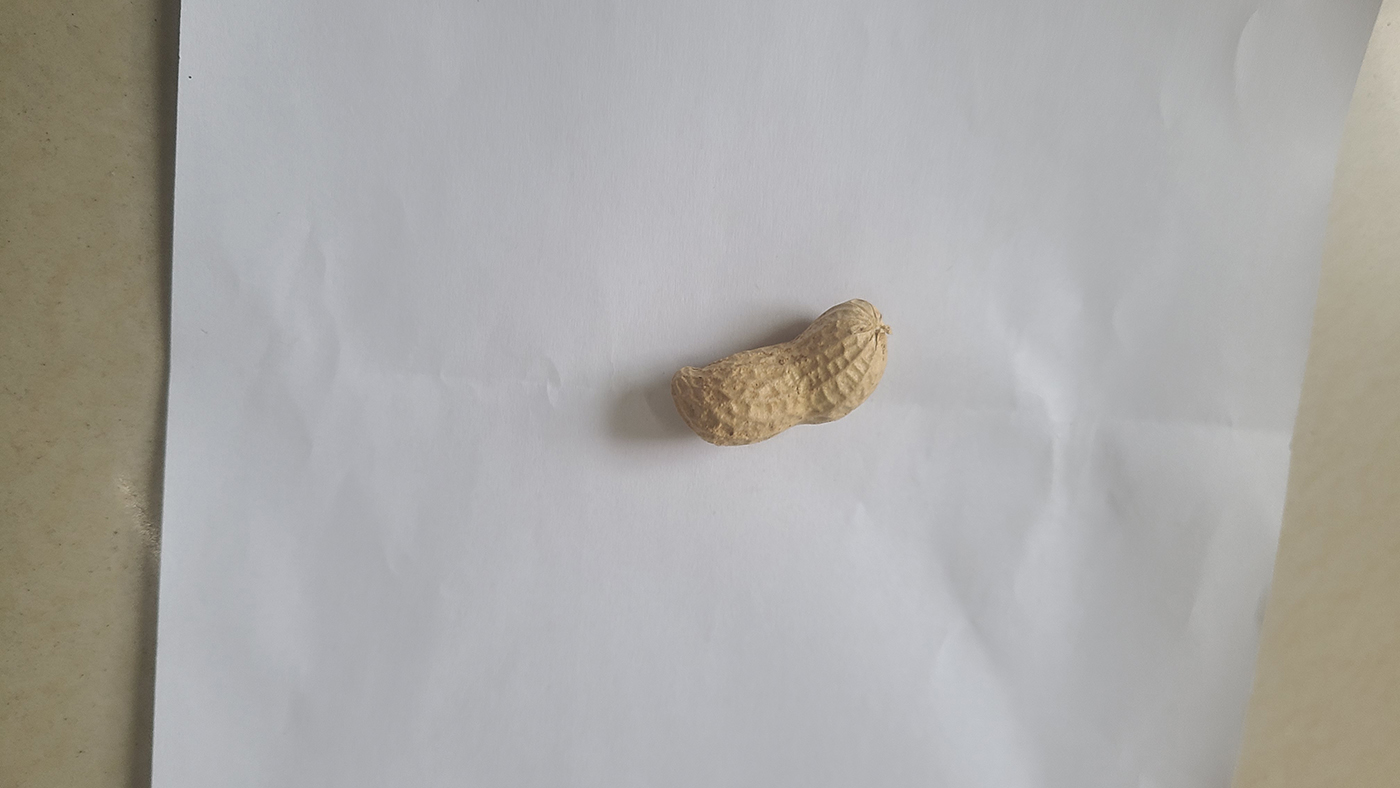h: (671, 297, 890, 447)
